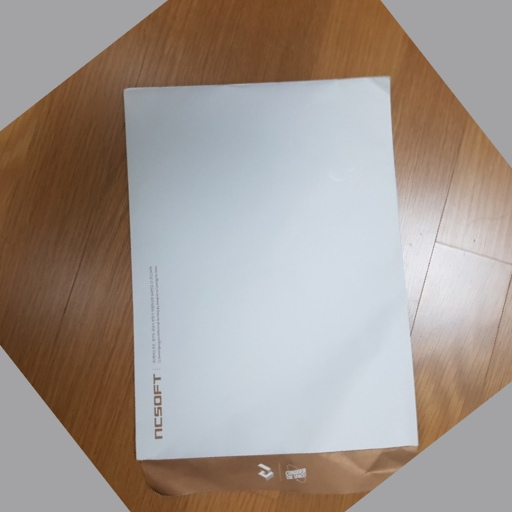Paper_2: (116, 62, 424, 496)
